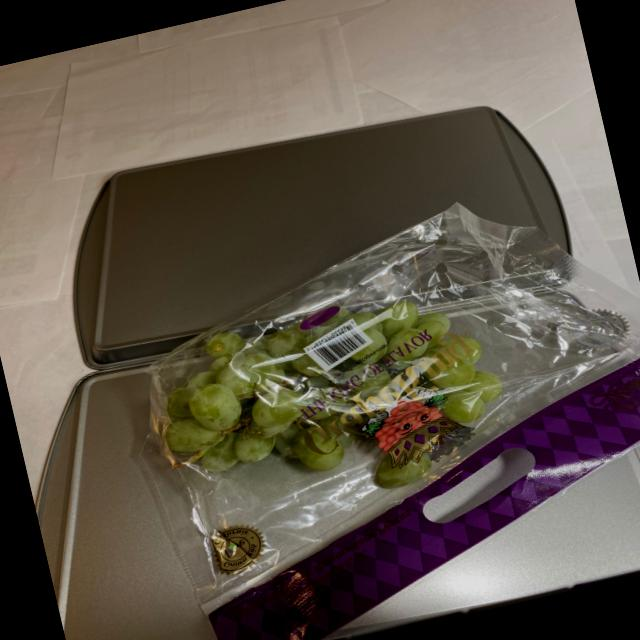grapes: (121, 276, 508, 524)
